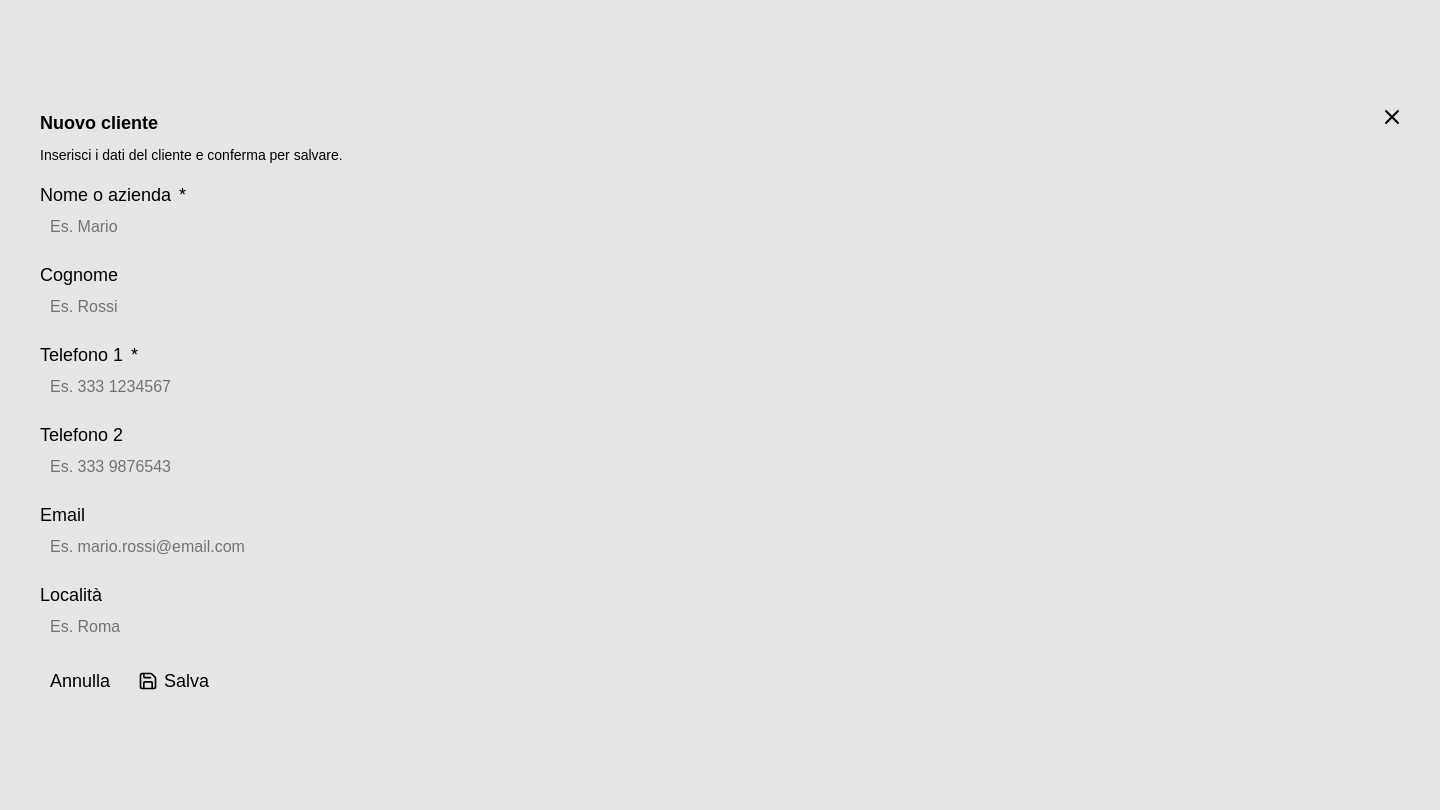
Test case: CreateCustomerDialog › non basta compilare solo il secondo telefono
The image size is (1440, 810).
In the field labelled "Nome o azienda *": (720, 227) [40,209,1400,245], type "Mario"
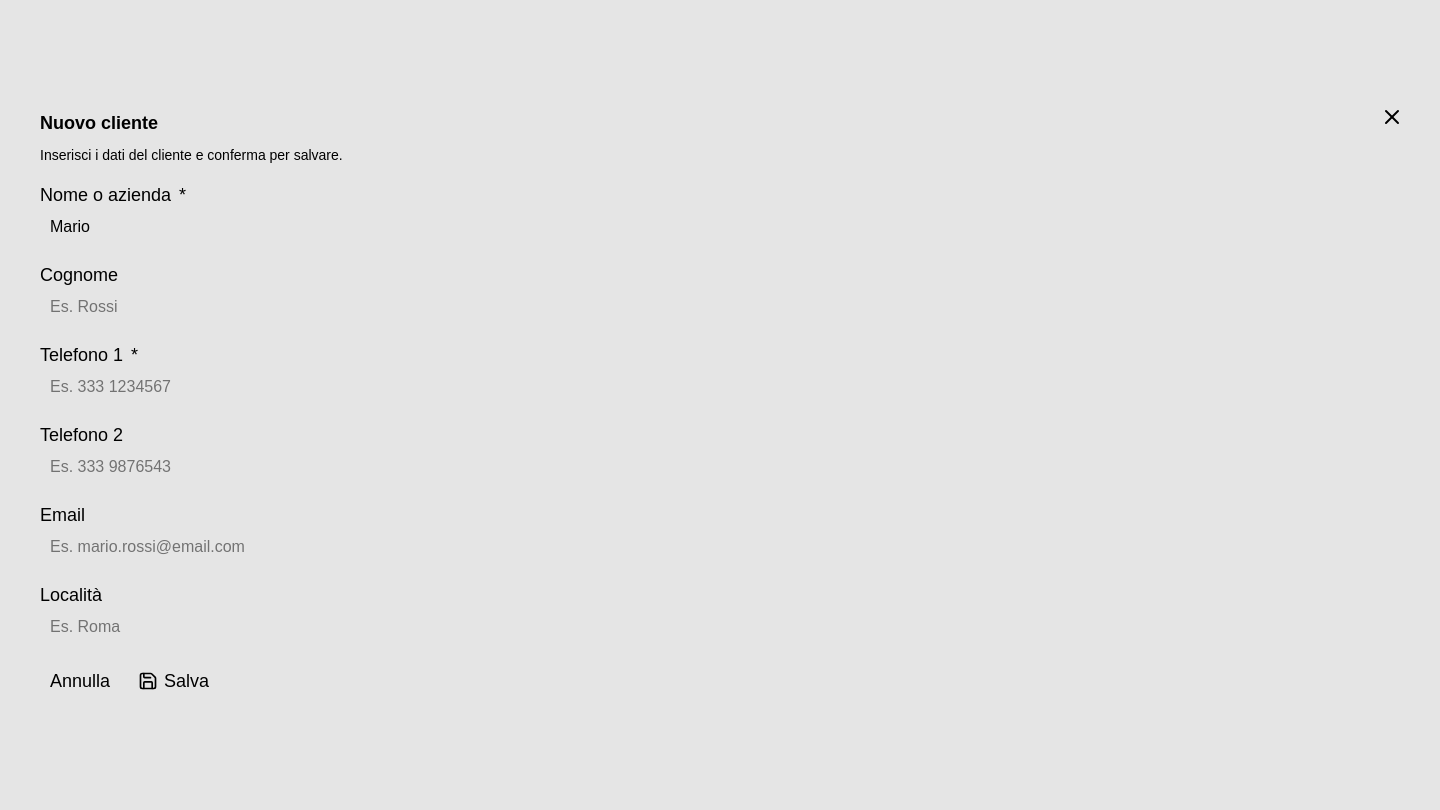
In the field labelled "Telefono 2": (720, 467) [40,449,1400,485], type "06 123456"
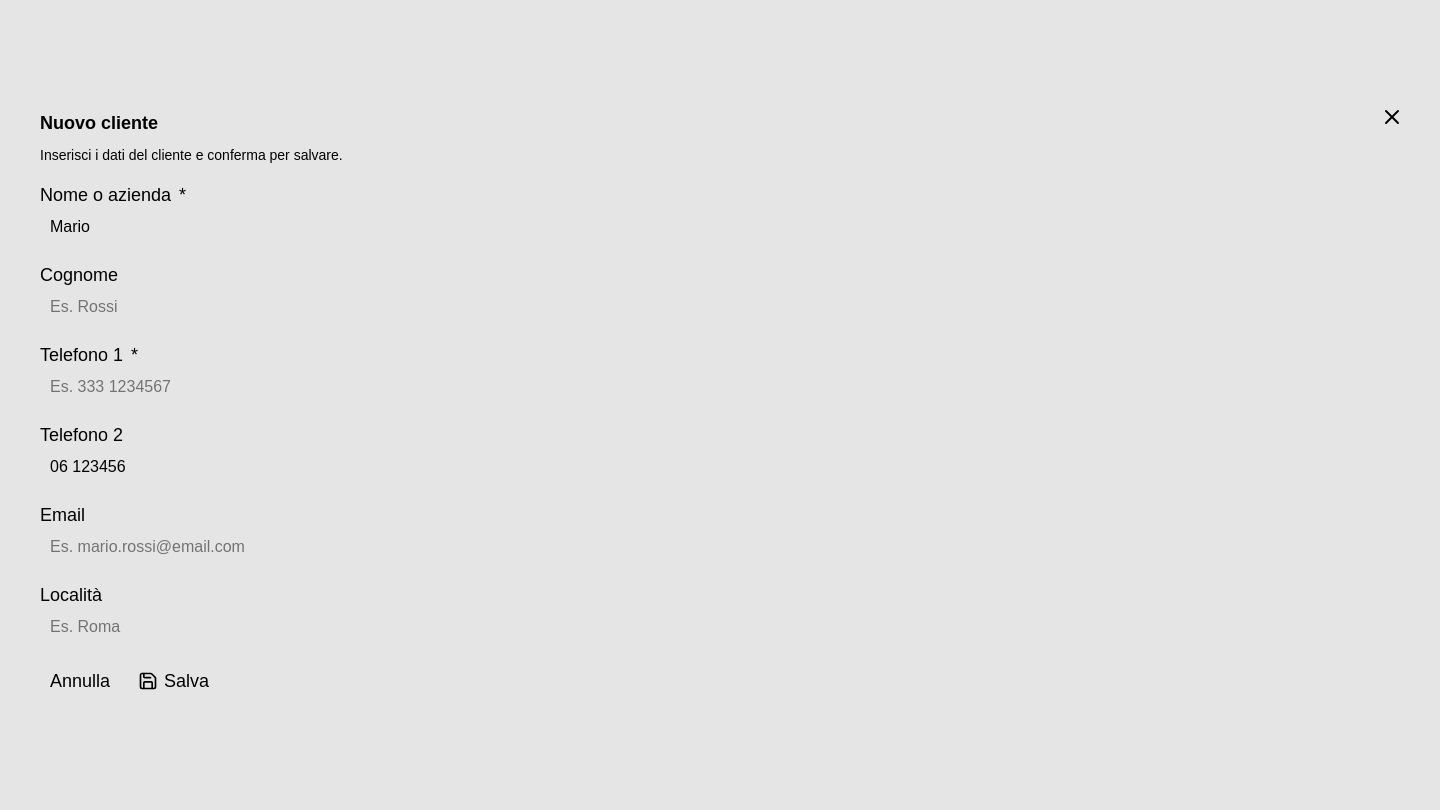
Click the button "Salva": (174, 681) [128,661,219,701]
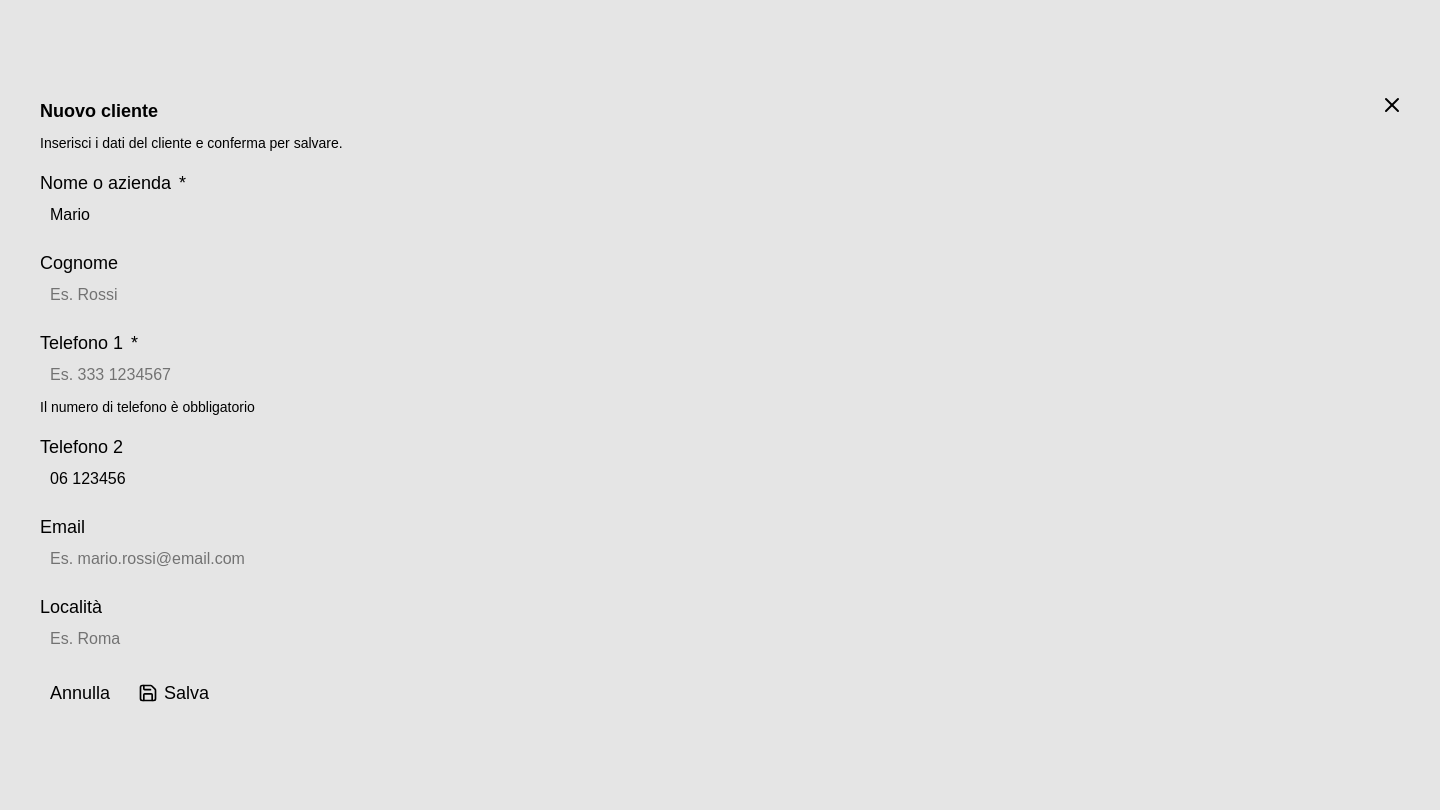
Check: the message reads "Il numero di telefono è obbligatorio", box [40,399,255,415]
